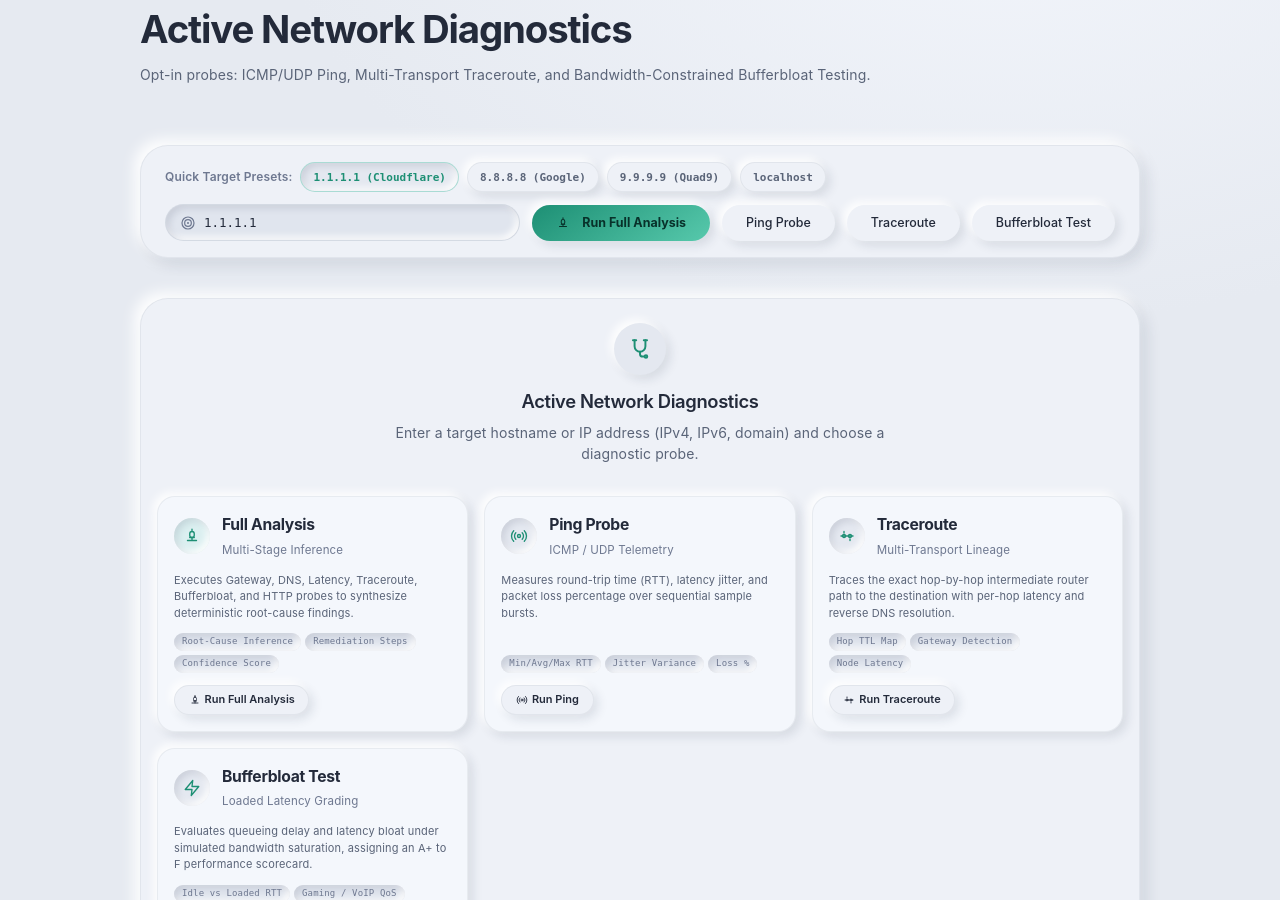
Test: DiagnosticsScreen & useDiagnosticsController › runs Bufferbloat probe and renders grade badge and scorecard
This screenshot has width=1280, height=900.
Click the button "Bufferbloat Test".
click(1043, 223)  # box [972,205,1115,241]
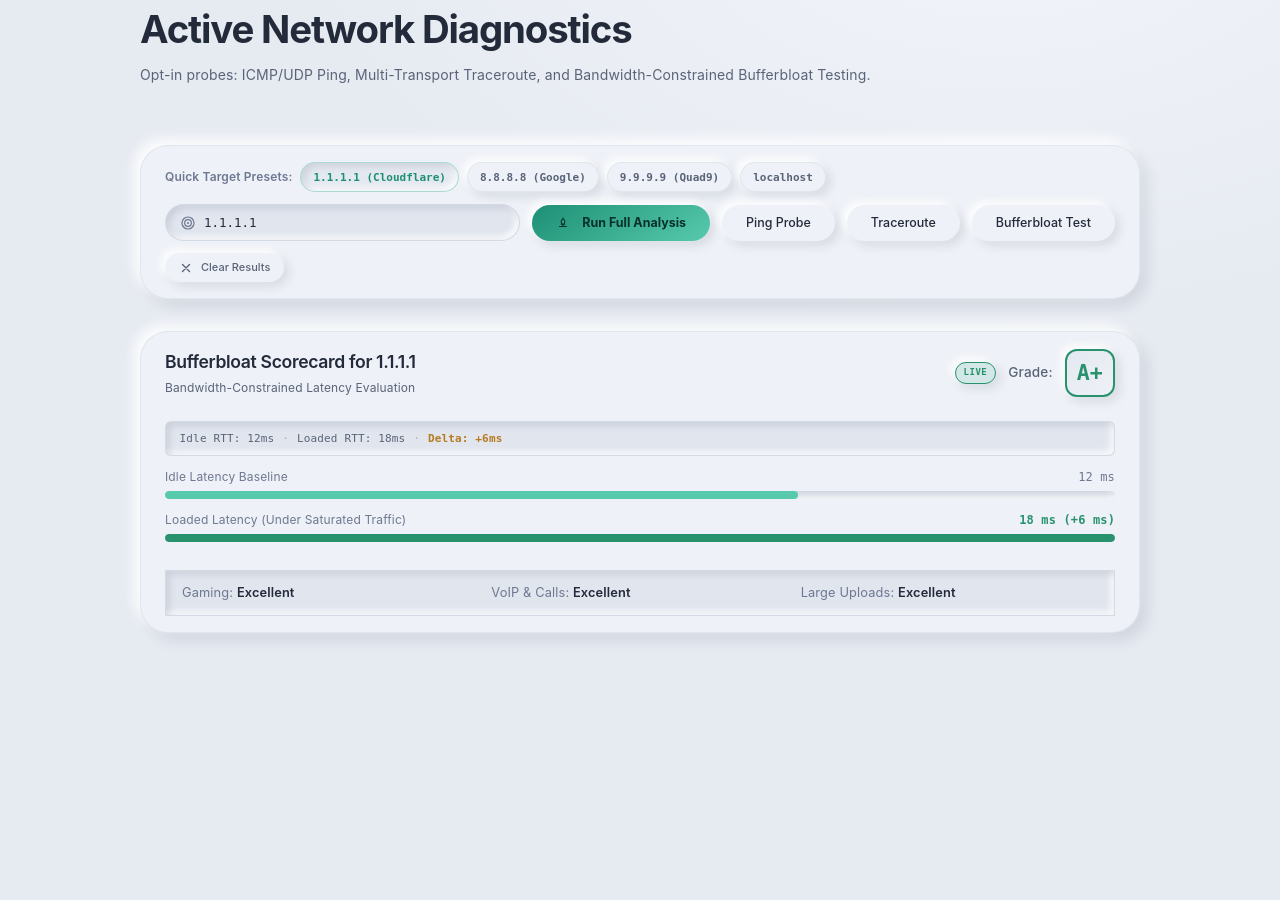
Check: the text "A+" is shown, box [1065,349,1115,397]
Check: the heading "Bufferbloat Scorecard for 1.1.1.1" is shown, box [165,348,416,376]
